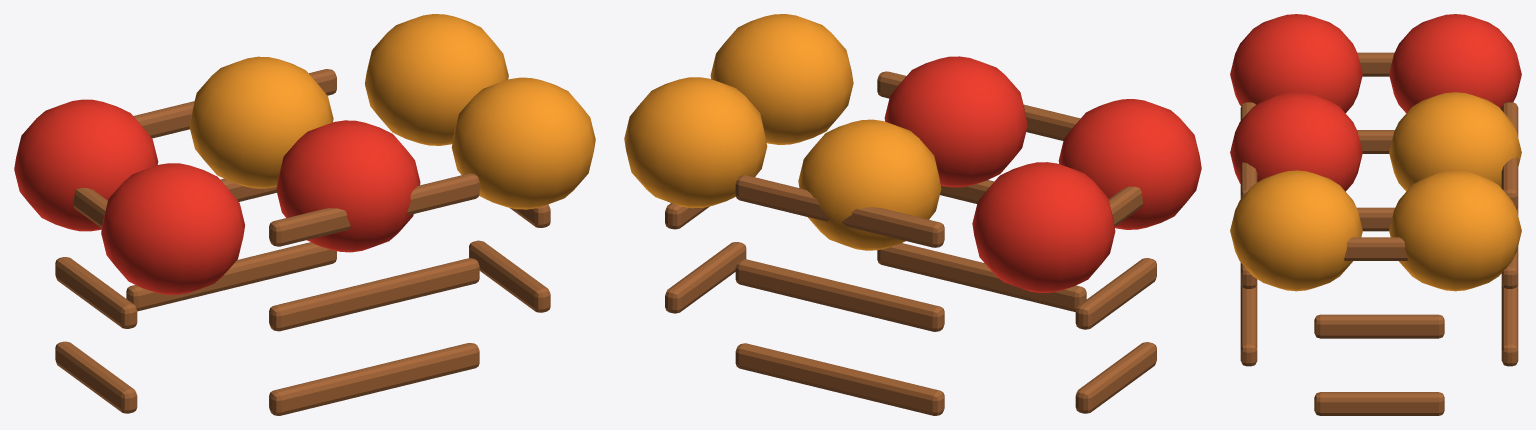
The model's file is PR3D_Environment_IngredientCrate.fbx.
The picture shows the model from 3 angles, left to right: view 1: azimuth 30°, elevation 25°; view 2: azimuth 150°, elevation 25°; view 3: azimuth 270°, elevation 25°; orthographic projection. The views are drawn at different scales.
Visible parts, largest first — view 1: Visual_CrateIngredient_-0.78_-0.35, Visual_CrateIngredient_+0.78_-0.35, Visual_CrateIngredient_+0.00_-0.35, Visual_CrateIngredient_+0.00_+0.32, Visual_CrateIngredient_+0.78_+0.32, Visual_CrateIngredient_-0.78_+0.32, Visual_CrateSlat_0.12_-0.55, Visual_CrateSlat_0.48_-0.55, Visual_CrateSlat_0.12_+0.55, Visual_CrateSlat_0.84_-0.55, Visual_CrateSide_0.12_-0.92, Visual_CrateSide_0.48_-0.92 (+5 smaller); view 2: Visual_CrateIngredient_-0.78_+0.32, Visual_CrateIngredient_+0.78_+0.32, Visual_CrateIngredient_+0.00_-0.35, Visual_CrateIngredient_+0.78_-0.35, Visual_CrateIngredient_+0.00_+0.32, Visual_CrateIngredient_-0.78_-0.35, Visual_CrateSlat_0.12_+0.55, Visual_CrateSlat_0.48_+0.55, Visual_CrateSlat_0.84_+0.55, Visual_CrateSlat_0.12_-0.55, Visual_CrateSide_0.48_-0.92, Visual_CrateSide_0.12_-0.92 (+5 smaller); view 3: Visual_CrateIngredient_+0.78_+0.32, Visual_CrateIngredient_+0.78_-0.35, Visual_CrateIngredient_-0.78_+0.32, Visual_CrateIngredient_-0.78_-0.35, Visual_CrateIngredient_+0.00_-0.35, Visual_CrateIngredient_+0.00_+0.32, Visual_CrateSide_0.48_+0.92, Visual_CrateSide_0.12_+0.92, Visual_CrateSide_0.84_+0.92, Visual_CrateSlat_0.12_+0.55, Visual_CrateSlat_0.12_-0.55, Visual_CrateSlat_0.84_+0.55 (+6 smaller).
Boxes of the visible parts, box(x1,y1,x2,y2) form: Visual_CrateIngredient_-0.78_-0.35: box(101, 163, 244, 294); Visual_CrateIngredient_+0.78_-0.35: box(451, 77, 595, 209); Visual_CrateIngredient_+0.00_-0.35: box(276, 120, 420, 252); Visual_CrateIngredient_+0.00_+0.32: box(189, 56, 333, 188); Visual_CrateIngredient_+0.78_+0.32: box(365, 14, 508, 145); Visual_CrateIngredient_-0.78_+0.32: box(14, 99, 158, 231); Visual_CrateSlat_0.12_-0.55: box(269, 343, 479, 415); Visual_CrateSlat_0.48_-0.55: box(269, 258, 479, 331); Visual_CrateSlat_0.12_+0.55: box(126, 242, 336, 311); Visual_CrateSlat_0.84_-0.55: box(269, 173, 479, 246); Visual_CrateSide_0.12_-0.92: box(55, 341, 137, 413); Visual_CrateSide_0.48_-0.92: box(55, 257, 137, 328); Visual_CrateIngredient_-0.78_+0.32: box(972, 162, 1115, 292); Visual_CrateIngredient_+0.78_+0.32: box(624, 77, 767, 208); Visual_CrateIngredient_+0.00_-0.35: box(884, 56, 1027, 187); Visual_CrateIngredient_+0.78_-0.35: box(710, 14, 853, 144); Visual_CrateIngredient_+0.00_+0.32: box(798, 119, 941, 250); Visual_CrateIngredient_-0.78_-0.35: box(1058, 99, 1201, 229); Visual_CrateSlat_0.12_+0.55: box(735, 343, 944, 415); Visual_CrateSlat_0.48_+0.55: box(735, 259, 944, 331); Visual_CrateSlat_0.84_+0.55: box(735, 175, 944, 247); Visual_CrateSlat_0.12_-0.55: box(877, 243, 1086, 311); Visual_CrateSide_0.48_-0.92: box(1075, 258, 1156, 329); Visual_CrateSide_0.12_-0.92: box(1075, 342, 1156, 413); Visual_CrateIngredient_+0.78_+0.32: box(1389, 170, 1521, 291); Visual_CrateIngredient_+0.78_-0.35: box(1230, 170, 1362, 291); Visual_CrateIngredient_-0.78_+0.32: box(1389, 14, 1521, 113); Visual_CrateIngredient_-0.78_-0.35: box(1230, 14, 1362, 113); Visual_CrateIngredient_+0.00_-0.35: box(1230, 92, 1362, 191); Visual_CrateIngredient_+0.00_+0.32: box(1389, 92, 1521, 191); Visual_CrateSide_0.48_+0.92: box(1314, 314, 1444, 338); Visual_CrateSide_0.12_+0.92: box(1314, 392, 1444, 415); Visual_CrateSide_0.84_+0.92: box(1344, 237, 1407, 260); Visual_CrateSlat_0.12_+0.55: box(1501, 284, 1518, 366); Visual_CrateSlat_0.12_-0.55: box(1240, 284, 1257, 366); Visual_CrateSlat_0.84_+0.55: box(1501, 102, 1518, 209).
Bounding box in the file's own units: 2.12 × 1.04 × 1.23.
